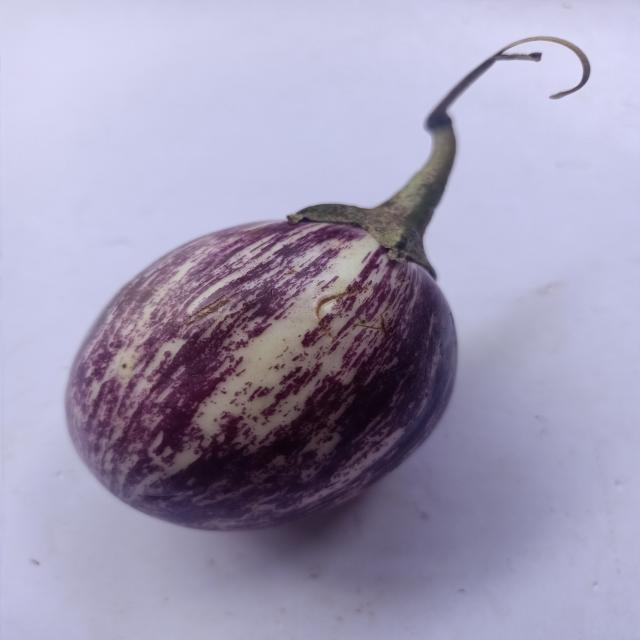Eggplant: (39, 24, 596, 550)
